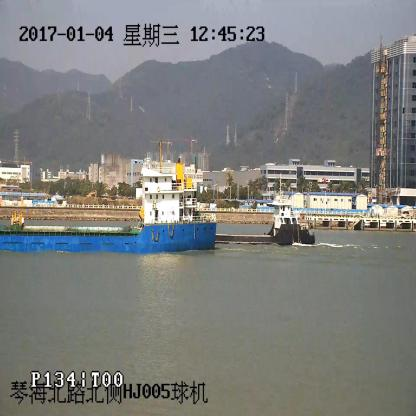Bulk Carrier: (0, 162, 218, 252), (218, 190, 316, 248)
